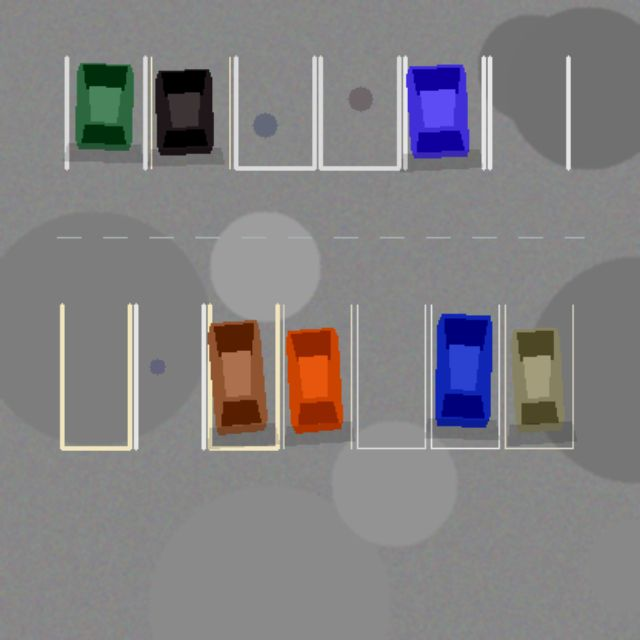space-empty: (135, 305, 203, 448), (357, 305, 425, 448), (62, 305, 129, 448), (235, 57, 314, 168), (489, 57, 568, 168), (320, 57, 398, 168)
space-occupied: (209, 305, 277, 448), (283, 305, 351, 448), (431, 305, 498, 448), (505, 305, 572, 448), (66, 57, 145, 168), (151, 57, 229, 168), (405, 57, 483, 168)
